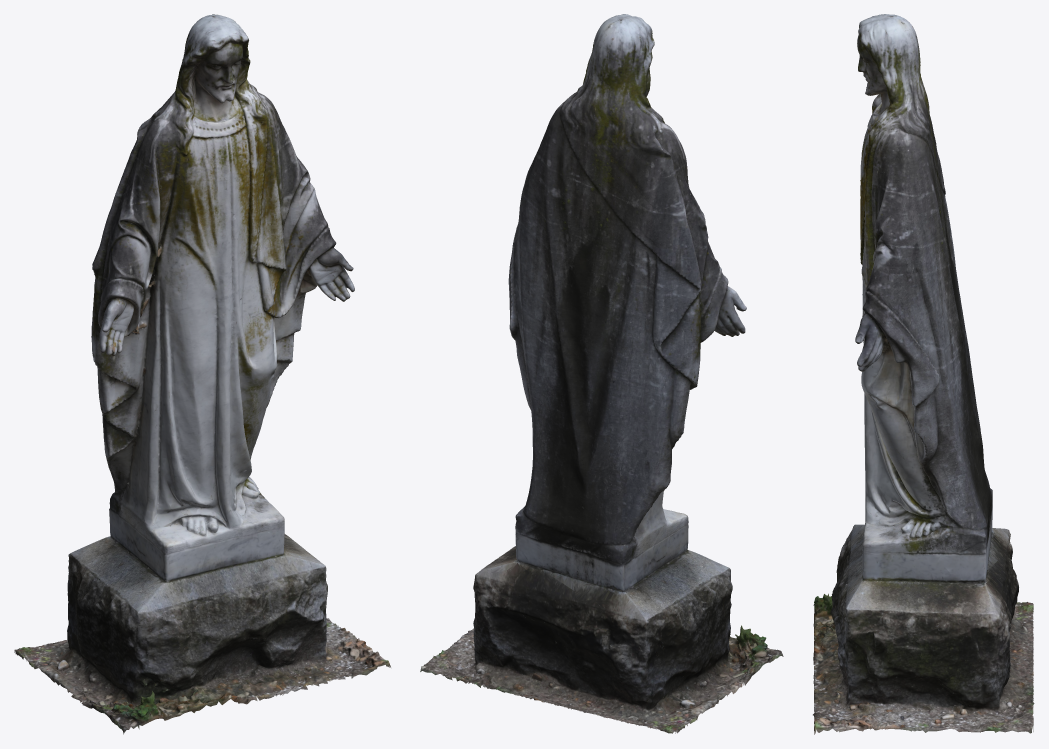
Rendered from Jesus_statue.fbx.
3 renders of one model, left to right at view 1: azimuth 30°, elevation 25°; view 2: azimuth 150°, elevation 25°; view 3: azimuth 270°, elevation 25°, orthographic. The views are drawn at different scales.
Parts seen in each view (by area): view 1: default_0, default_0.001; view 2: default_0, default_0.001; view 3: default_0, default_0.001.
Boxes of the visible parts, left/top/right/bottom form: default_0: left=14, top=21, right=354, bottom=734; default_0.001: left=59, top=14, right=390, bottom=715; default_0: left=423, top=21, right=783, bottom=733; default_0.001: left=420, top=14, right=766, bottom=700; default_0: left=813, top=20, right=1034, bottom=728; default_0.001: left=813, top=14, right=1033, bottom=734.
Bounding box in the file's own units: 164 × 384 × 119.
